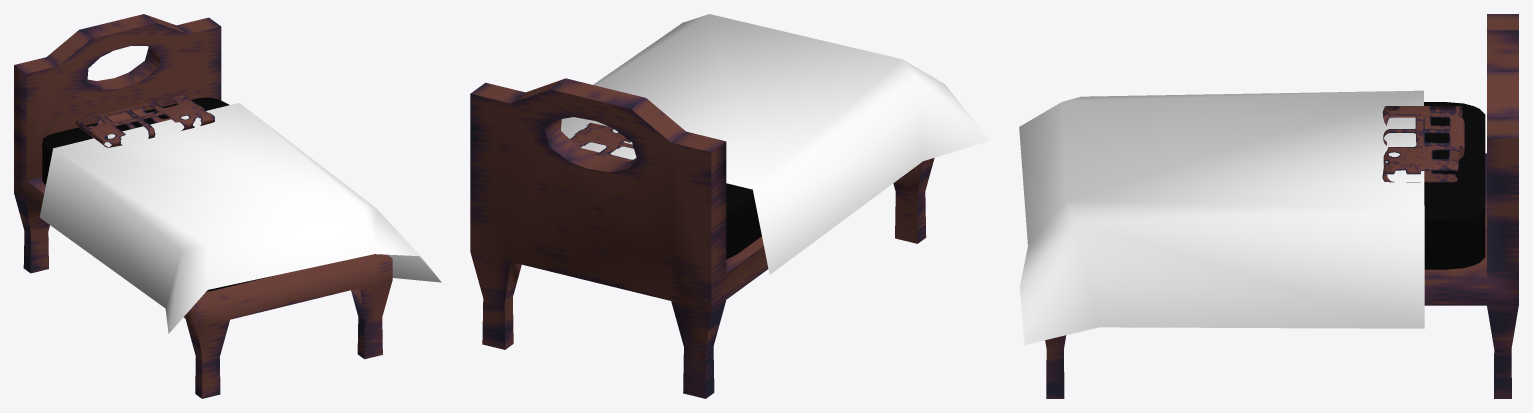
The model's file is Bed2.fbx.
3 renders of one model, left to right at view 1: azimuth 30°, elevation 25°; view 2: azimuth 150°, elevation 25°; view 3: azimuth 270°, elevation 25°, orthographic. The views are drawn at different scales.
Parts seen in each view (by area): view 1: Plane.001; view 2: Plane.001; view 3: Plane.001.
Boxes of the visible parts, x1=… form: Plane.001: x1=14, y1=14, x2=441, y2=398; Plane.001: x1=470, y1=14, x2=990, y2=398; Plane.001: x1=1019, y1=14, x2=1518, y2=398.
Size of the model in its own units: 0.6285 by 0.7595 by 0.4872.
3 materials, 3 textured.
